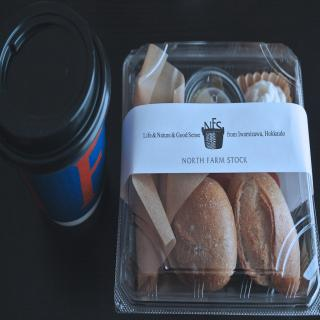Bread: (226, 172, 300, 295), (173, 176, 236, 292)
